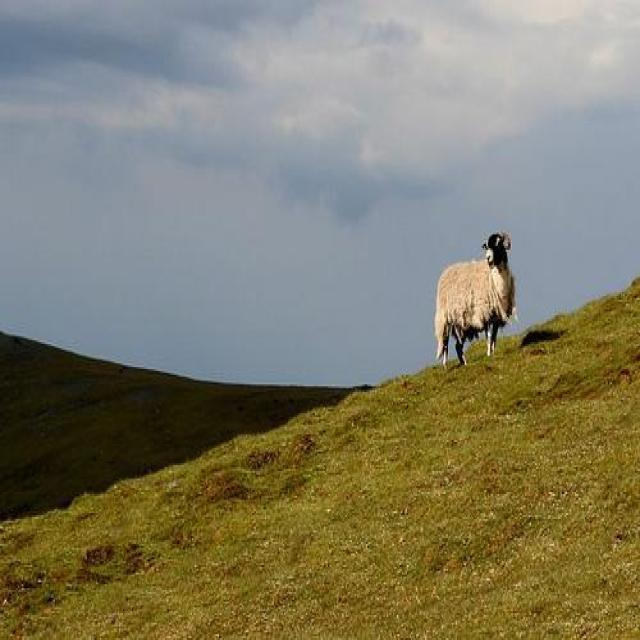Sheep: (434, 234, 518, 369)
